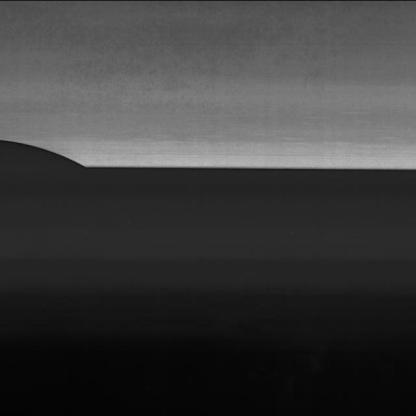crescent_gap: (0, 134, 94, 172)
